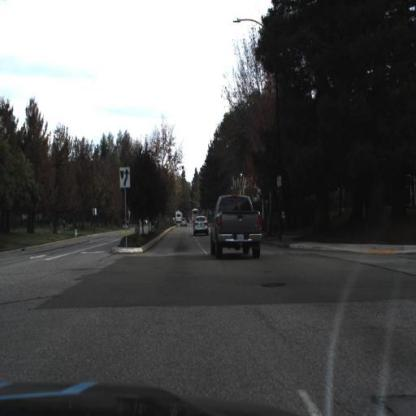car: (209, 193, 266, 260), (193, 215, 211, 240)
